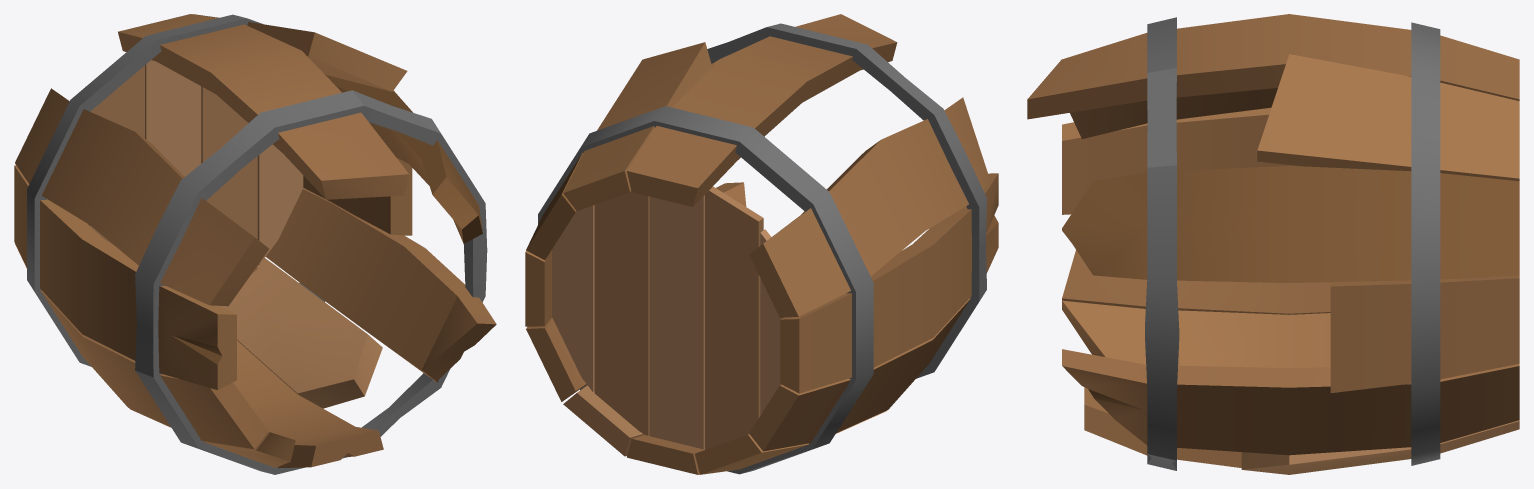
File: Barrel.gltf
3 views of the same model, side by side, from view 1: azimuth 30°, elevation 25°; view 2: azimuth 150°, elevation 25°; view 3: azimuth 270°, elevation 25° (orthographic). The views are drawn at different scales.
Visible parts, largest first — view 1: Barrel_04_LOD0; view 2: Barrel_04_LOD0; view 3: Barrel_04_LOD0.
Boxes of the visible parts, x1,y1,x2,y2 form: Barrel_04_LOD0: (14, 14, 496, 474); Barrel_04_LOD0: (525, 14, 998, 474); Barrel_04_LOD0: (1027, 14, 1519, 474).
Size of the model in its own units: 0.7924 by 0.8251 by 0.8613.
